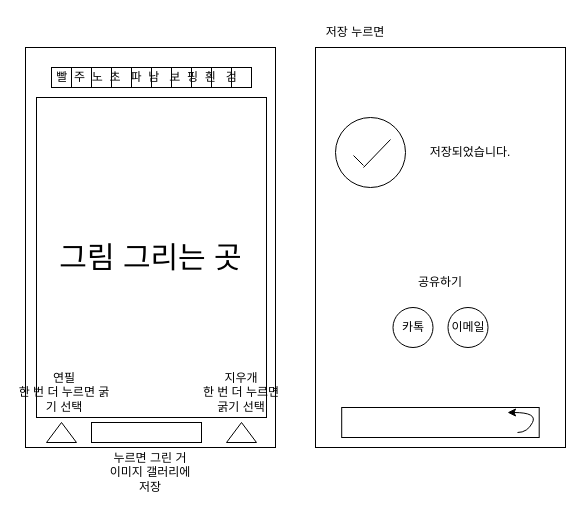
The diagram is 583 pixels wide and 511 high, and some of its shapes have lost their labels. The box of each missing label's shape, as (x1, y1, x2, y2) in pixels:
그림판으로: (341, 406, 539, 438)
이미지 저장: (90, 422, 202, 442)
